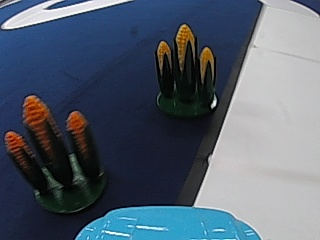corn: (19, 99, 106, 215), (151, 19, 220, 118)
